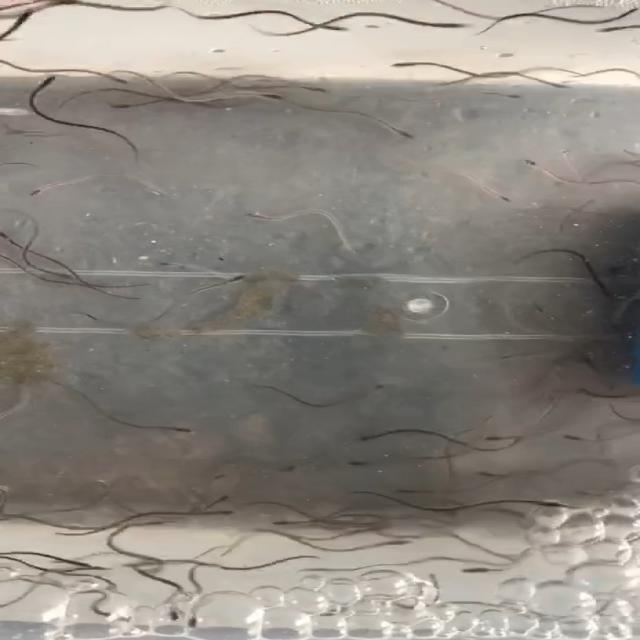active_glass_eel: (138, 252, 198, 273), (309, 22, 366, 42), (383, 9, 441, 28), (457, 561, 506, 583), (240, 203, 286, 226), (359, 378, 406, 399), (359, 538, 406, 556), (471, 182, 518, 199), (381, 122, 420, 141), (210, 465, 254, 481), (21, 178, 54, 199), (484, 425, 517, 446), (278, 80, 318, 96), (1, 18, 41, 34), (513, 157, 551, 173), (162, 419, 194, 438), (196, 274, 242, 287), (235, 88, 272, 104), (360, 425, 394, 442), (524, 75, 560, 91), (70, 557, 102, 575), (97, 603, 125, 623), (388, 54, 427, 68), (108, 96, 142, 112), (190, 509, 225, 524), (90, 70, 126, 84), (522, 496, 550, 514), (24, 72, 58, 86), (180, 609, 209, 625), (568, 432, 593, 446), (492, 89, 514, 103)
